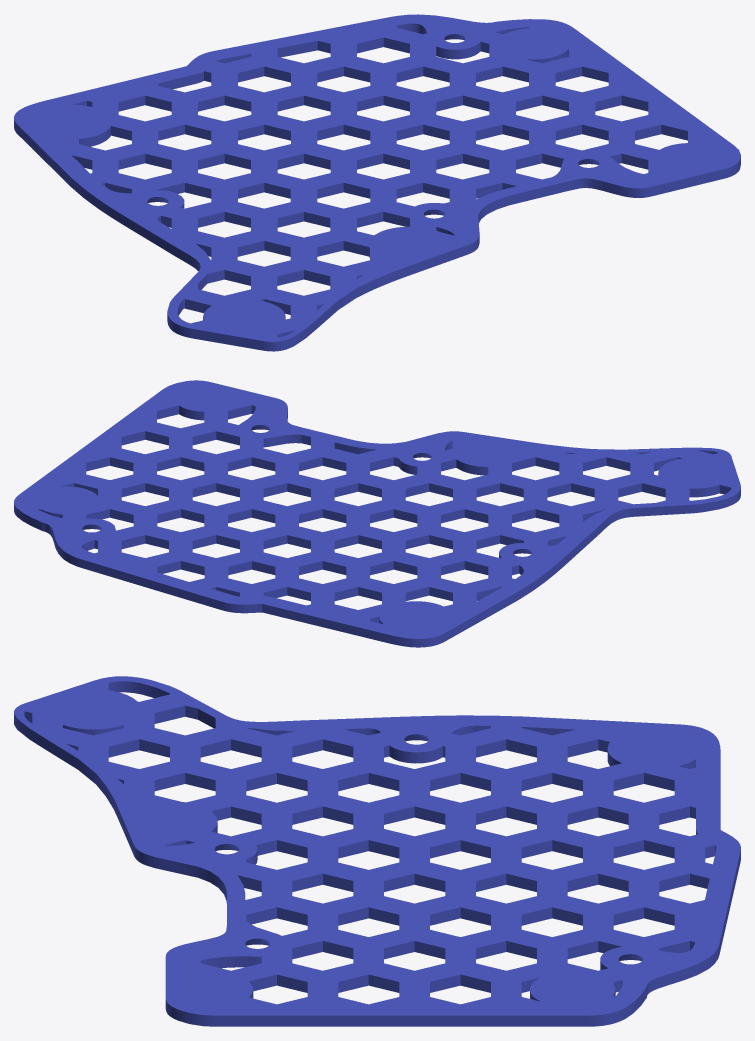
The model's file is 3x5_3 low v16 - Plate.fbx.
The picture shows the model from 3 angles, top to bottom: view 1: azimuth 30°, elevation 25°; view 2: azimuth 150°, elevation 25°; view 3: azimuth 270°, elevation 25°; orthographic projection. The views are drawn at different scales.
Visible parts, largest first — view 1: 3x5_3 low v16 - Plate; view 2: 3x5_3 low v16 - Plate; view 3: 3x5_3 low v16 - Plate.
Boxes of the visible parts, bbox=[...] form: 3x5_3 low v16 - Plate: bbox=[14, 14, 740, 351]; 3x5_3 low v16 - Plate: bbox=[14, 380, 740, 647]; 3x5_3 low v16 - Plate: bbox=[14, 676, 740, 1026].
Size of the model in its own units: 131 by 2 by 119.
